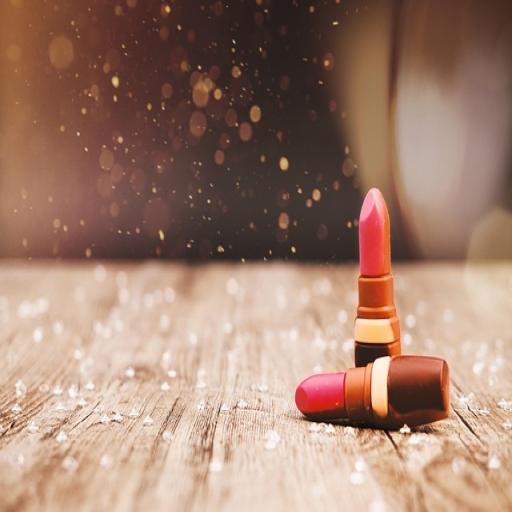lipstick: (296, 355, 449, 429), (355, 189, 400, 366)
